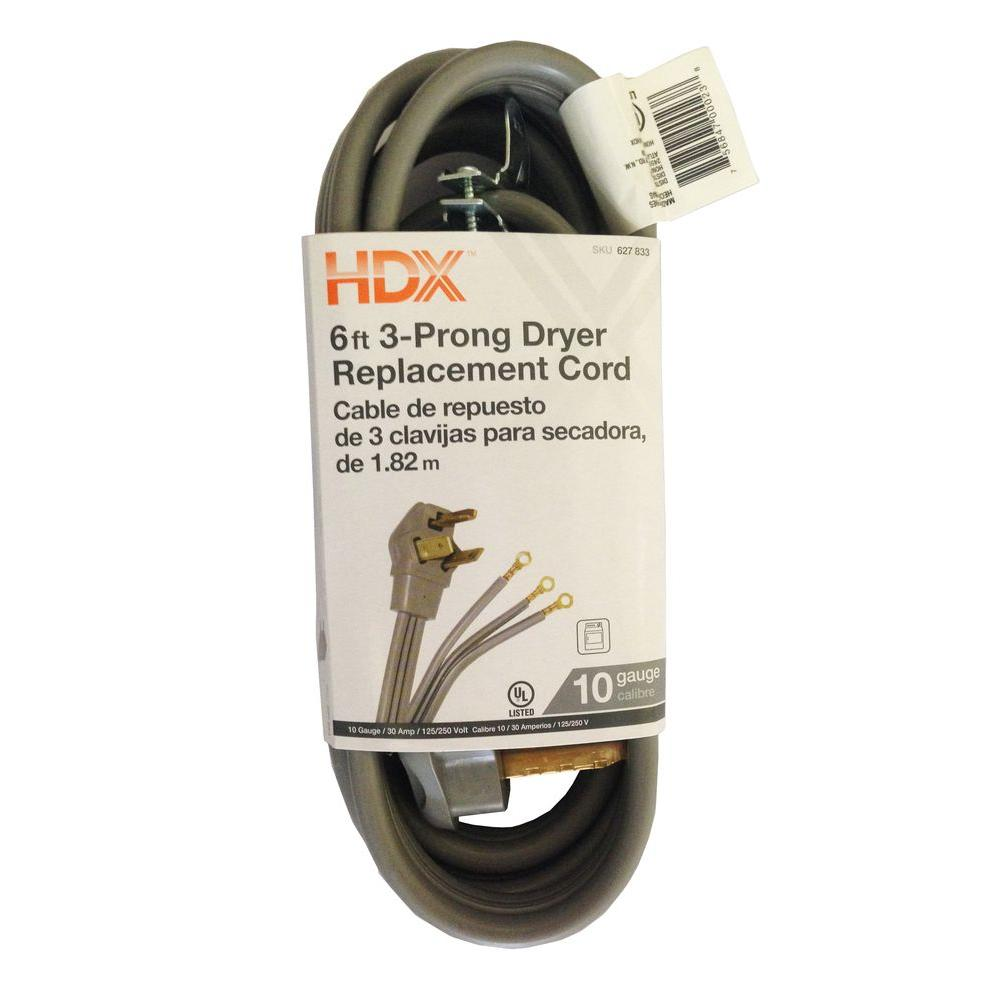Nonrec_Tangler: (213, 14, 822, 927)
